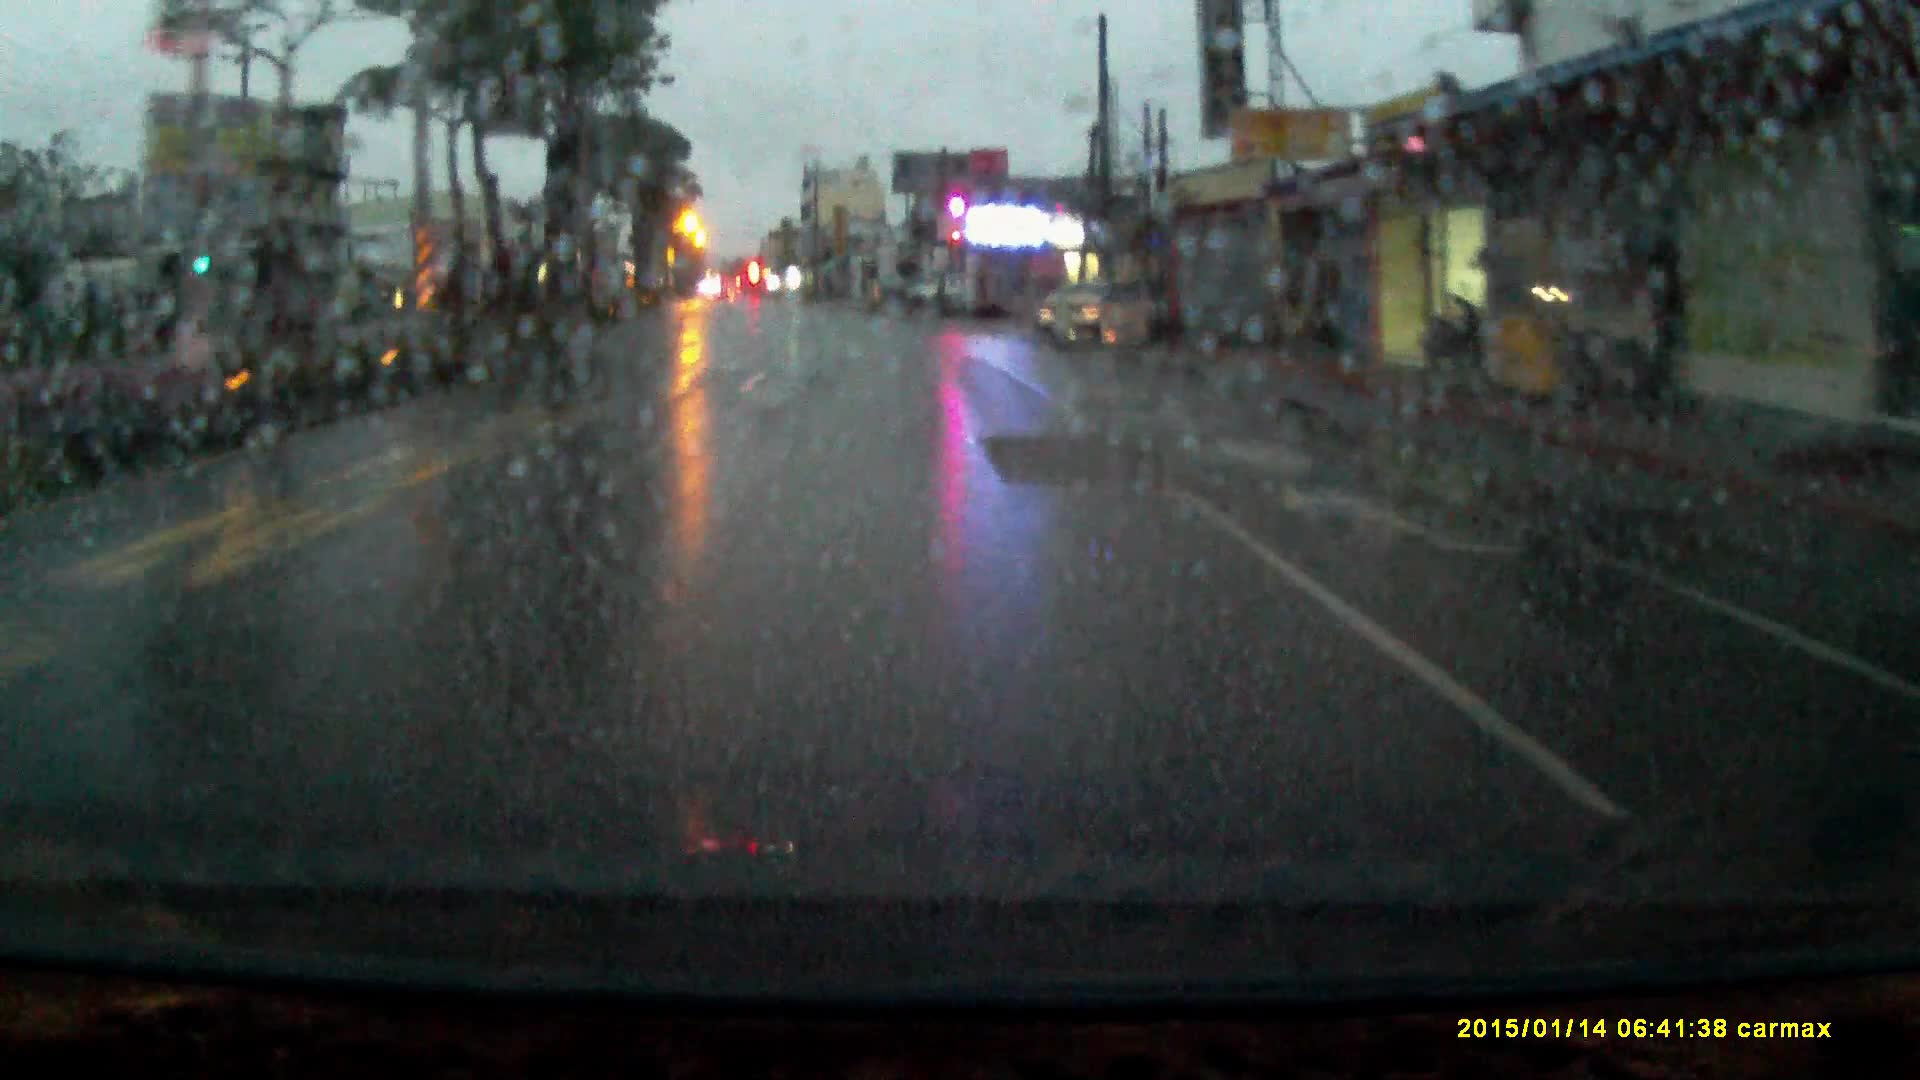vehicle: (1036, 280, 1158, 360), (910, 277, 968, 313)
